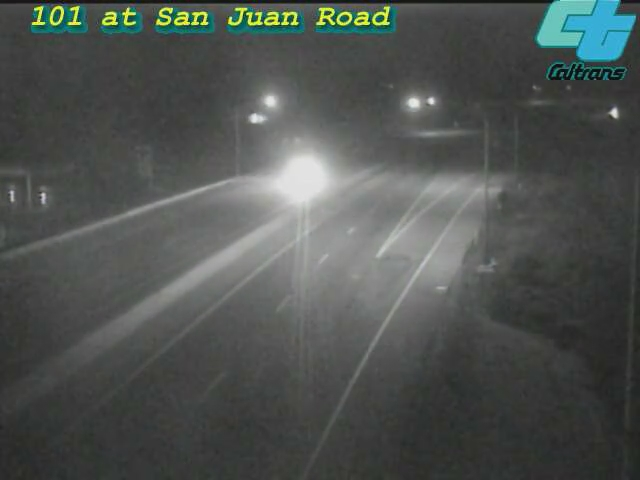vehicle: (255, 137, 335, 217), (589, 87, 639, 137)
